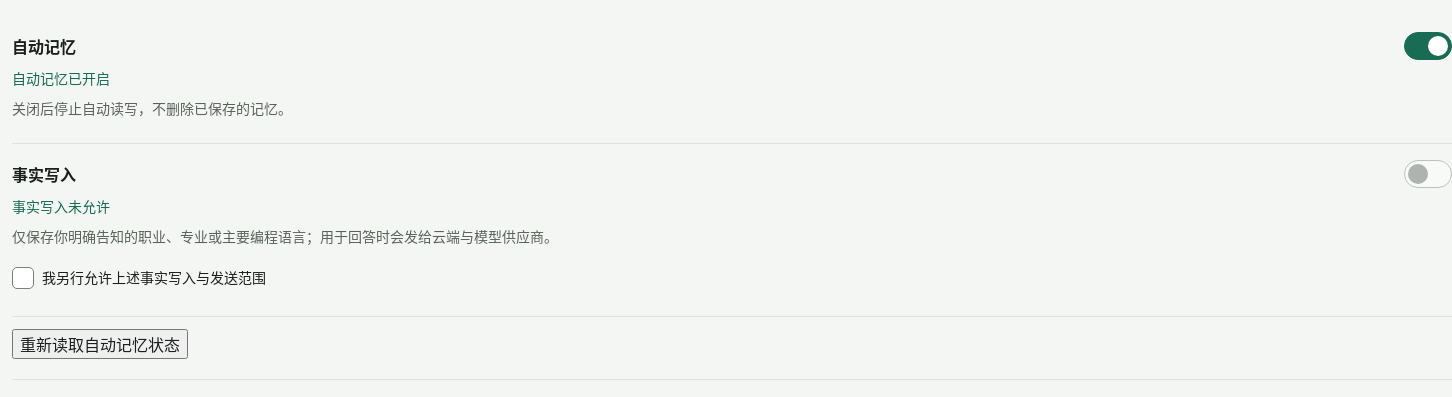
Test: 事实授权回执缺失或不匹配（false）不视为启用，不自动重发
The image size is (1452, 397).
Step 1. Click the checkbox → {"x": 139, "y": 278}, box [12,267,266,289]
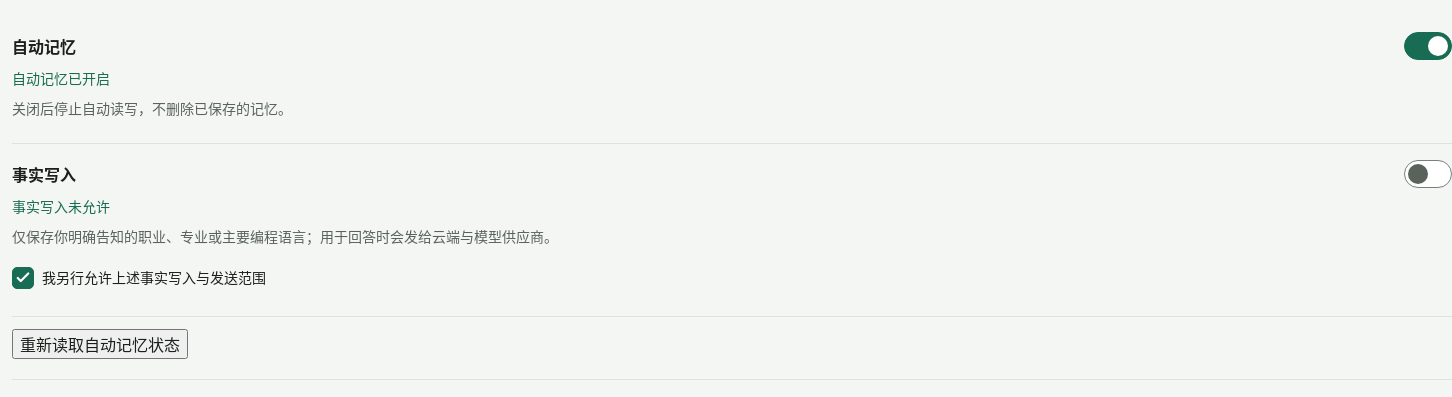
Step 2. Click the switch labelled "事实写入" → {"x": 44, "y": 174}, box [12,152,1451,196]
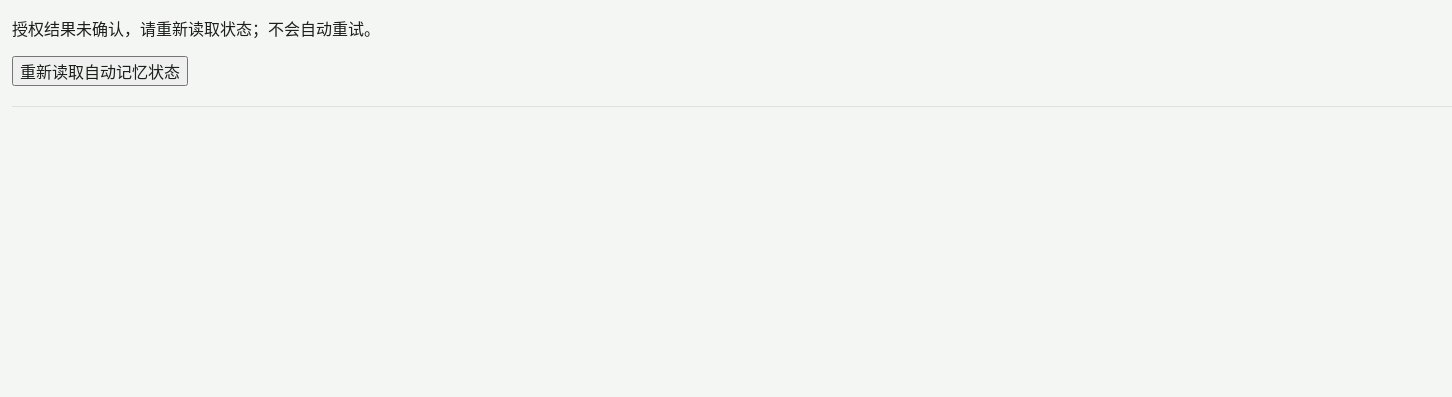
Check: the message "授权结果未确认，请重新读取状态；不会自动重试。" is shown, box [12,16,380,40]
